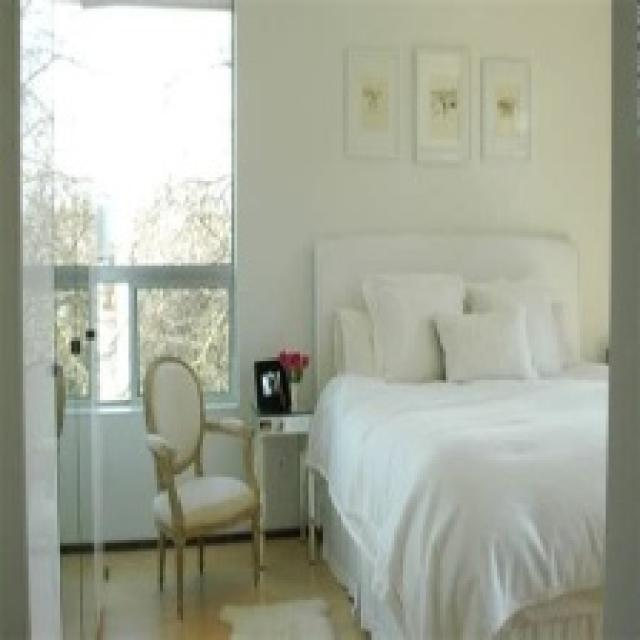Bed: (303, 229, 608, 637)
